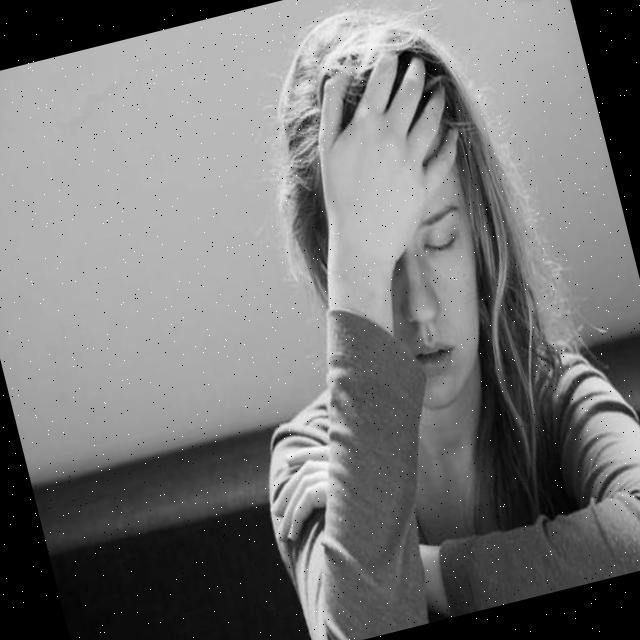Sadness: (306, 113, 516, 426)
